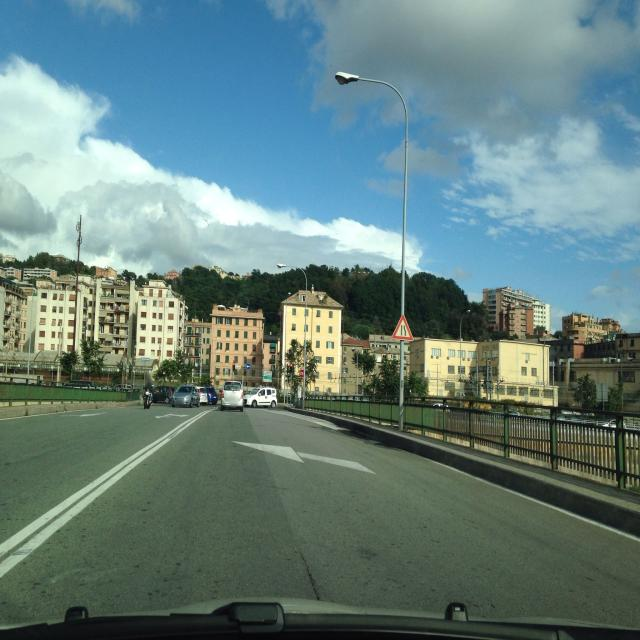car: (242, 387, 278, 408), (220, 381, 244, 412), (172, 384, 200, 408), (152, 385, 175, 404), (198, 386, 218, 405)
